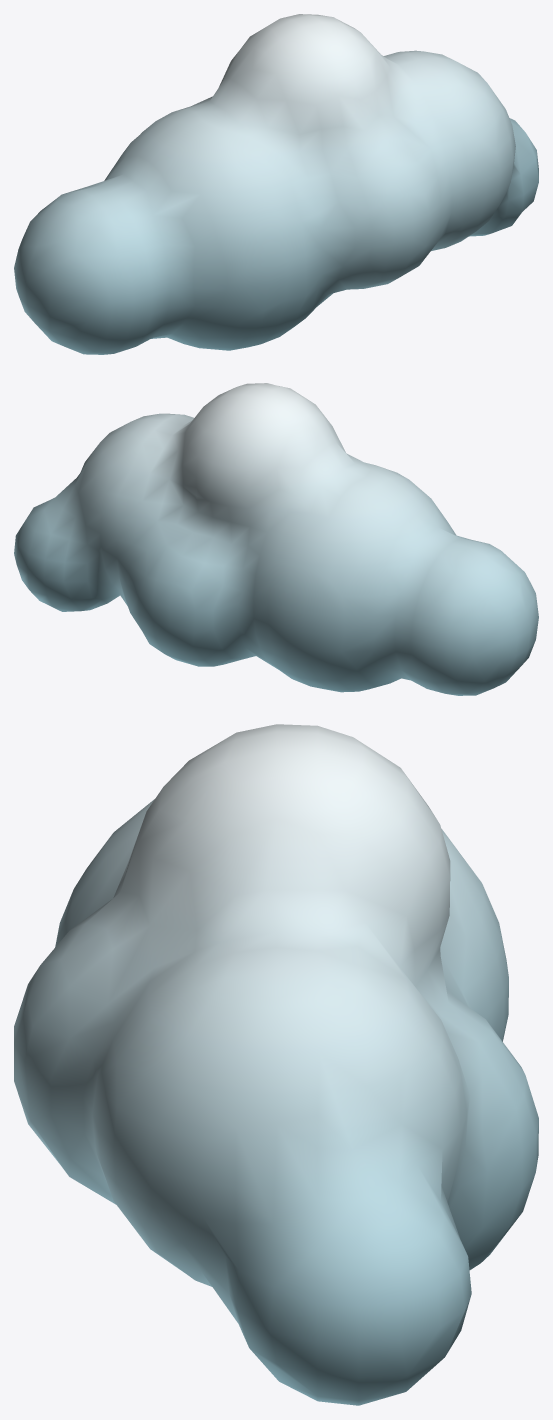
File: SM_Cloud_Long.fbx
3 views of the same model, one above another, from view 1: azimuth 30°, elevation 25°; view 2: azimuth 150°, elevation 25°; view 3: azimuth 270°, elevation 25° (orthographic). The views are drawn at different scales.
Parts seen in each view (by area): view 1: SM_Cloud_Long; view 2: SM_Cloud_Long; view 3: SM_Cloud_Long.
Boxes of the visible parts, bbox=[...] form: SM_Cloud_Long: bbox=[14, 14, 538, 354]; SM_Cloud_Long: bbox=[14, 383, 538, 695]; SM_Cloud_Long: bbox=[14, 724, 538, 1405].
Size of the model in its own units: 406 by 216 by 190.
